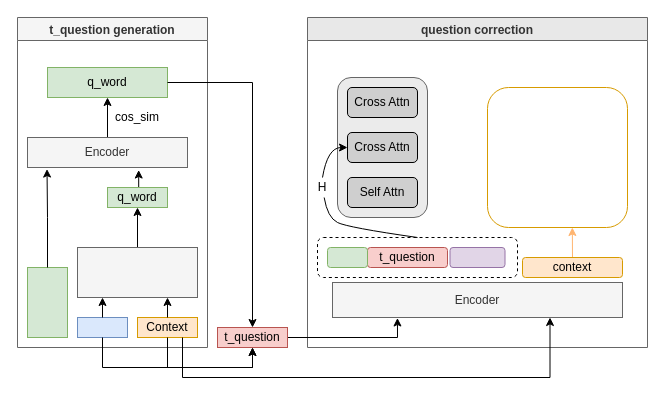
Some shapes in this 665 by 403 pixel diagram are drawn without their labels. Each missing label, with the centre of its shape:
Answer: point 102,327
bert classifier: point 137,272
exampler: point 477,257
q_word list: point 47,302
type: point 347,257
